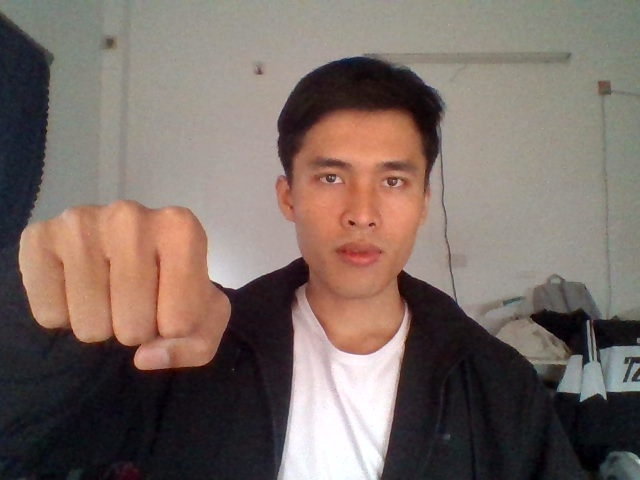Yes: (18, 197, 234, 374)
